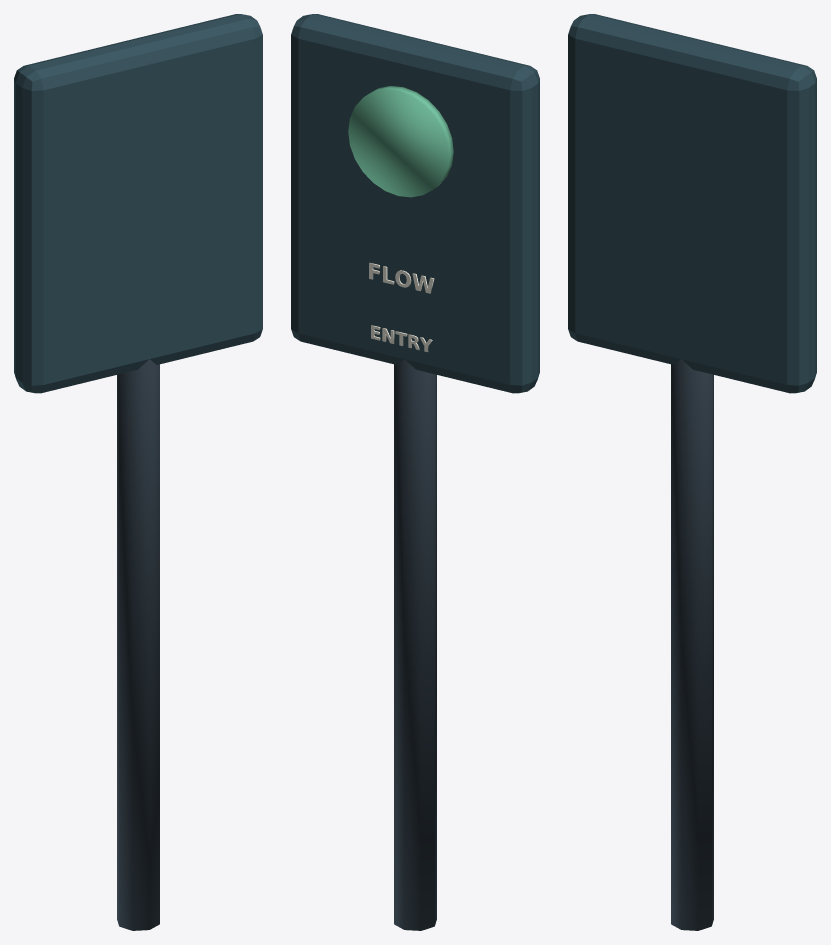
Rendered from FeatureEasy.fbx.
3 renders of one model, left to right at view 1: azimuth 30°, elevation 25°; view 2: azimuth 150°, elevation 25°; view 3: azimuth 330°, elevation 25°, orthographic.
Visible parts, largest first — view 1: Visual_FeatureEasy; view 2: Visual_FeatureEasy; view 3: Visual_FeatureEasy.
Boxes of the visible parts, bbox=[...] form: Visual_FeatureEasy: bbox=[14, 14, 262, 930]; Visual_FeatureEasy: bbox=[291, 14, 539, 930]; Visual_FeatureEasy: bbox=[568, 14, 816, 930].
Size of the model in its own units: 0.62 by 2.18 by 0.127.
